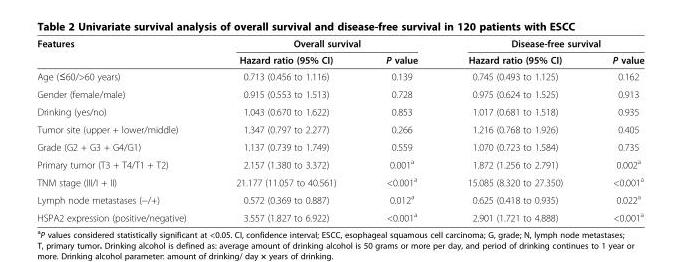table: (36, 37, 643, 222)
table column: (36, 37, 210, 222), (210, 37, 360, 222), (442, 37, 586, 222), (360, 37, 442, 222), (586, 37, 643, 222)
table column header: (36, 37, 643, 67)
table row: (36, 67, 643, 85), (36, 102, 643, 120), (36, 154, 643, 172), (36, 172, 643, 190), (36, 85, 643, 102), (36, 120, 643, 137), (36, 137, 643, 154), (36, 190, 643, 207), (36, 51, 643, 67), (36, 207, 643, 222), (36, 37, 643, 51)
table spanning cell: (36, 37, 210, 67), (210, 37, 442, 51), (442, 37, 643, 51)
